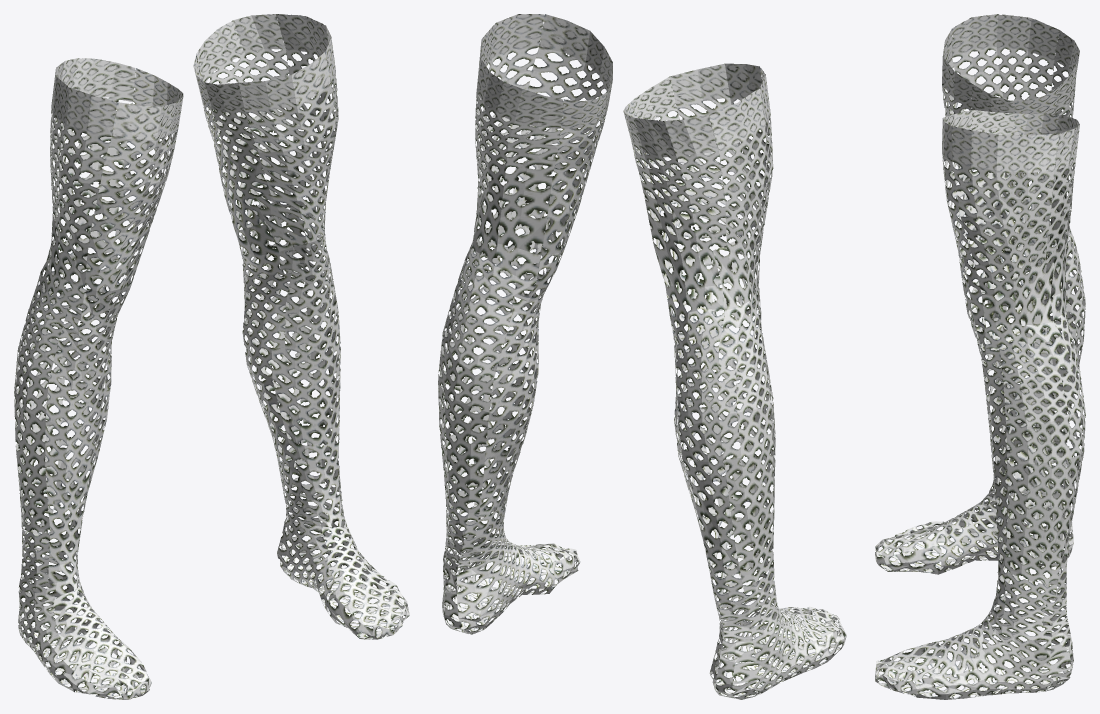
File: mhw_v0rt3x_stockings_white_fishnet_medium.glb
3 renders of one model, left to right at view 1: azimuth 30°, elevation 25°; view 2: azimuth 150°, elevation 25°; view 3: azimuth 270°, elevation 25°, orthographic. The views are drawn at different scales.
Parts seen in each view (by area): view 1: mhw_v0rt3x_stockings_white_fishnet_medium; view 2: mhw_v0rt3x_stockings_white_fishnet_medium; view 3: mhw_v0rt3x_stockings_white_fishnet_medium.
Boxes of the visible parts, x1=… form: mhw_v0rt3x_stockings_white_fishnet_medium: x1=14, y1=14, x2=409, y2=699; mhw_v0rt3x_stockings_white_fishnet_medium: x1=438, y1=14, x2=846, y2=699; mhw_v0rt3x_stockings_white_fishnet_medium: x1=875, y1=14, x2=1085, y2=699.
Size of the model in its own units: 0.545 by 0.8774 by 0.3031.
1 material, 1 textured.
